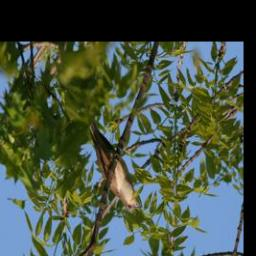Cuckoo: (86, 119, 140, 212)
